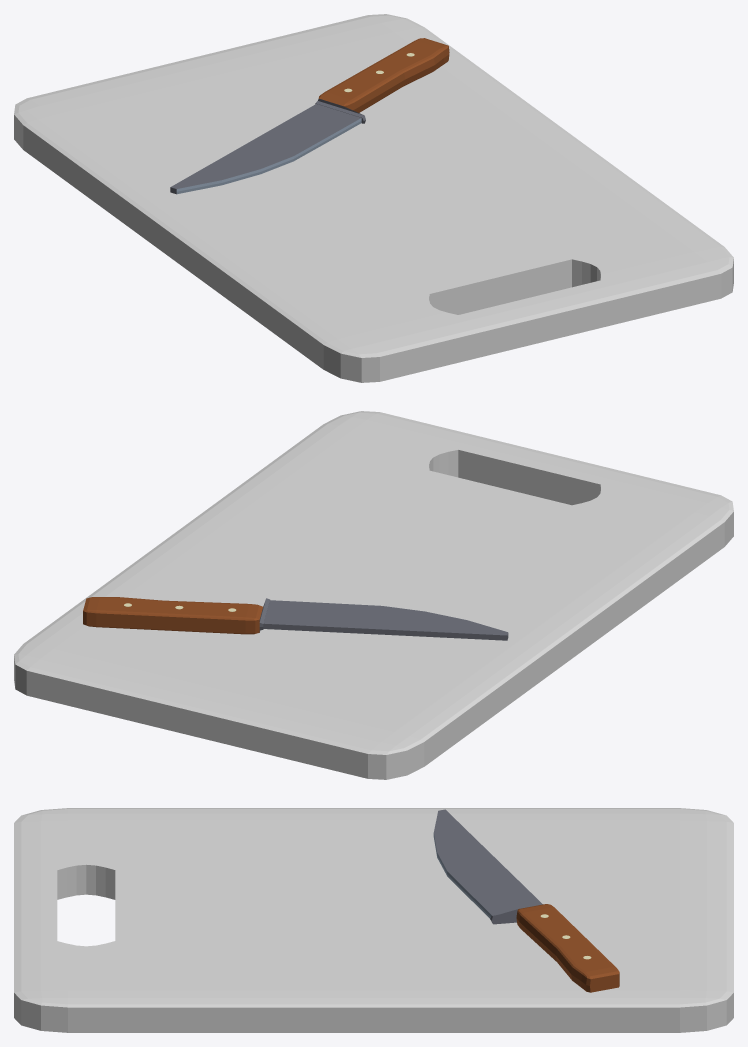
Rendered from choppingboard.glb.
3 renders of one model, top to bottom at view 1: azimuth 30°, elevation 25°; view 2: azimuth 150°, elevation 25°; view 3: azimuth 270°, elevation 25°, orthographic.
Parts seen in each view (by area): view 1: Cube.014; view 2: Cube.014; view 3: Cube.014.
Part boxes in pixels (x1,y1,x2,y2): Cube.014: (14,14,733,382); Cube.014: (14,411,733,779); Cube.014: (14,808,733,1032).
Bounding box in the file's own units: 0.4948 × 0.0557 × 0.7548.
